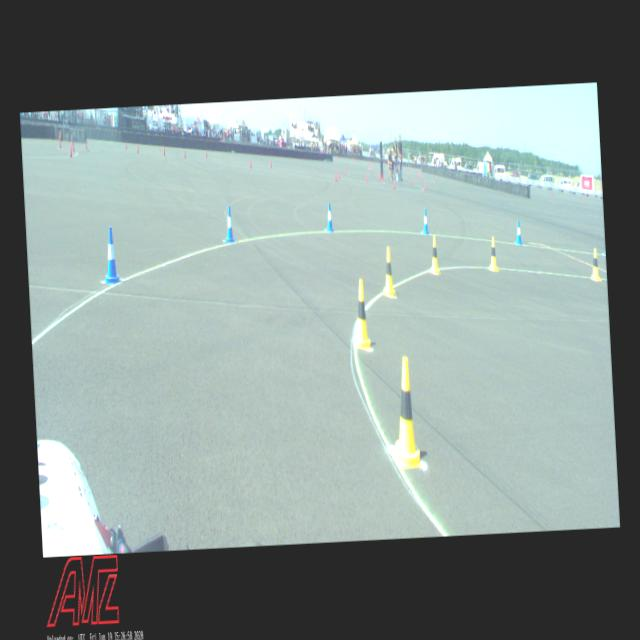blue_cone: (103, 227, 119, 285), (225, 205, 235, 242), (326, 203, 334, 232), (514, 220, 522, 245), (422, 208, 428, 236)
unknown_cone: (58, 136, 62, 148), (70, 145, 72, 158), (183, 150, 186, 158), (205, 150, 208, 158), (249, 158, 251, 168), (163, 146, 165, 155), (137, 144, 139, 153), (85, 140, 87, 149), (72, 142, 74, 151), (270, 160, 272, 168), (424, 182, 426, 190), (394, 180, 396, 188), (334, 172, 336, 180), (338, 170, 340, 178), (366, 174, 368, 182), (420, 175, 422, 182), (125, 142, 127, 148), (412, 177, 413, 184)
yellow_cone: (390, 358, 421, 466), (351, 280, 372, 350), (380, 246, 396, 298), (429, 234, 441, 276), (589, 247, 601, 281), (488, 237, 498, 271)
